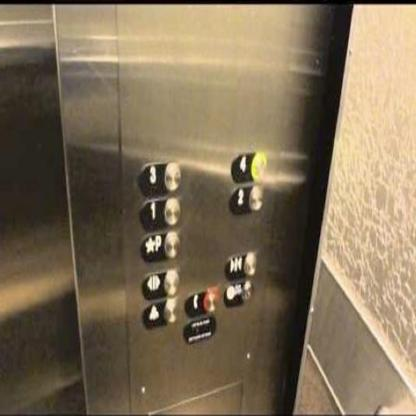1: (138, 196, 181, 232)
2: (228, 183, 264, 215)
3: (139, 160, 181, 198)
4: (230, 151, 268, 183)
alarm: (140, 297, 180, 328)
blur: (223, 280, 254, 308)
call: (184, 286, 219, 317)
close: (223, 250, 256, 281)
open: (141, 269, 180, 300)
sP: (139, 230, 180, 262)
text_blur: (182, 315, 217, 344)
